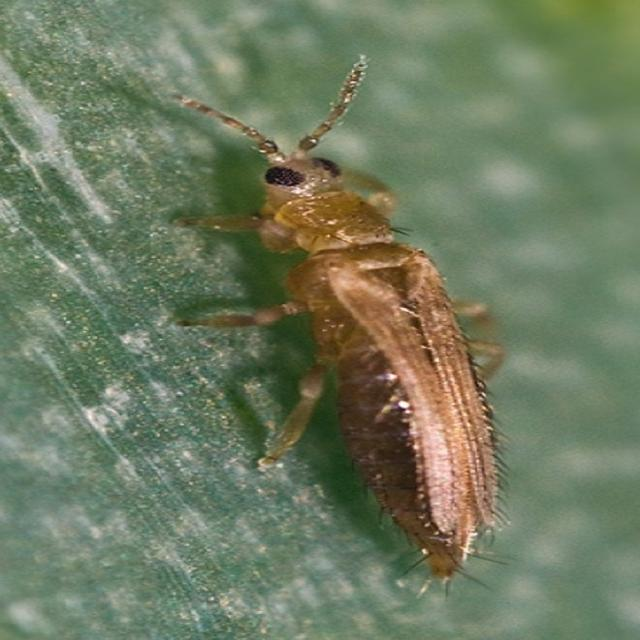Thrip-Adult-: (134, 39, 536, 593)
